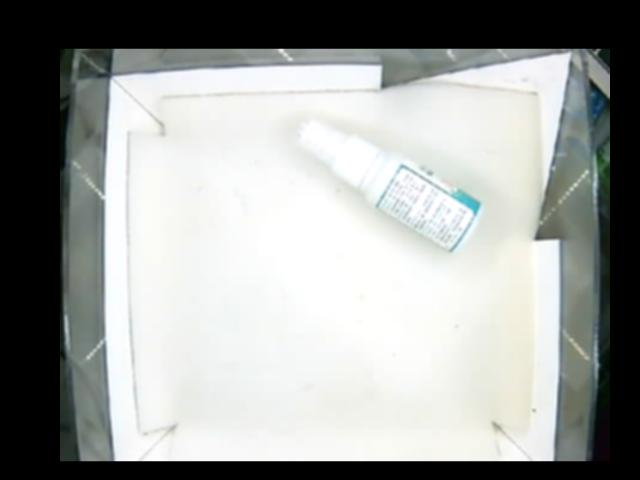Bottle: (295, 118, 483, 253)
